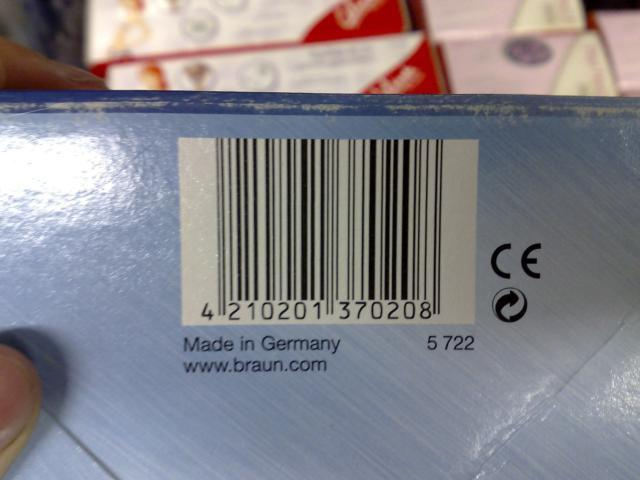Barcode: (195, 136, 453, 324)
